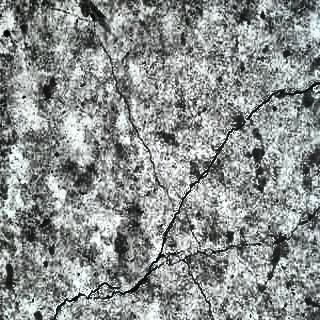crack: (43, 309, 87, 320)
